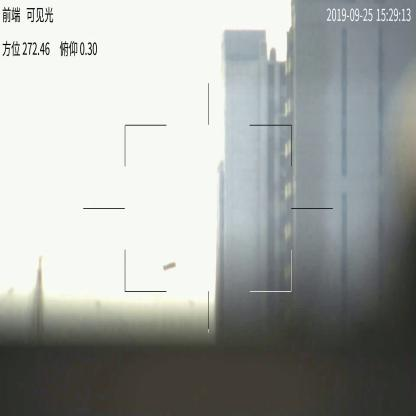uav: (162, 262, 176, 272)
